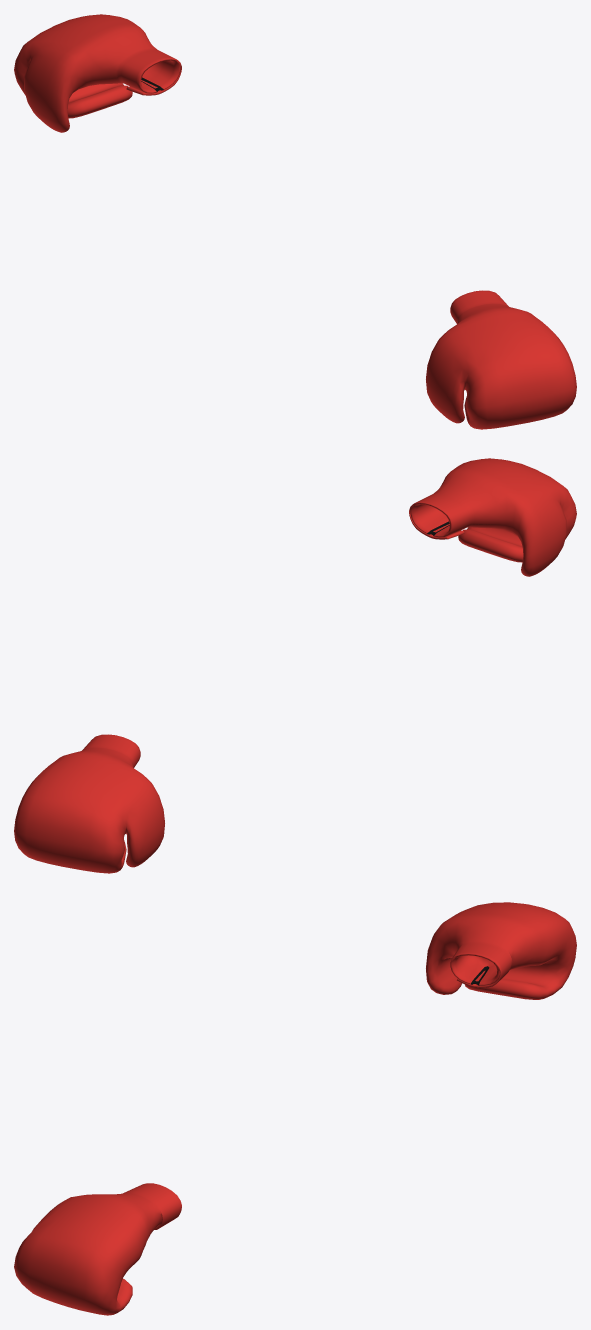
The model's file is boxingGloves.fbx.
3 renders of one model, top to bottom at view 1: azimuth 30°, elevation 25°; view 2: azimuth 150°, elevation 25°; view 3: azimuth 330°, elevation 25°, orthographic.
Visible parts, largest first — view 1: boxinggloveLeft, boxinggloveLeft.001; view 2: boxinggloveLeft.001, boxinggloveLeft; view 3: boxinggloveLeft, boxinggloveLeft.001.
Boxes of the visible parts, x1=… form: boxinggloveLeft: x1=426, y1=290, x2=576, y2=429; boxinggloveLeft.001: x1=14, y1=14, x2=181, y2=132; boxinggloveLeft.001: x1=14, y1=734, x2=164, y2=873; boxinggloveLeft: x1=409, y1=458, x2=576, y2=576; boxinggloveLeft: x1=14, y1=1183, x2=181, y2=1315; boxinggloveLeft.001: x1=426, y1=902, x2=576, y2=999.
Bounding box in the file's own units: 89.41 × 71.54 × 682.
